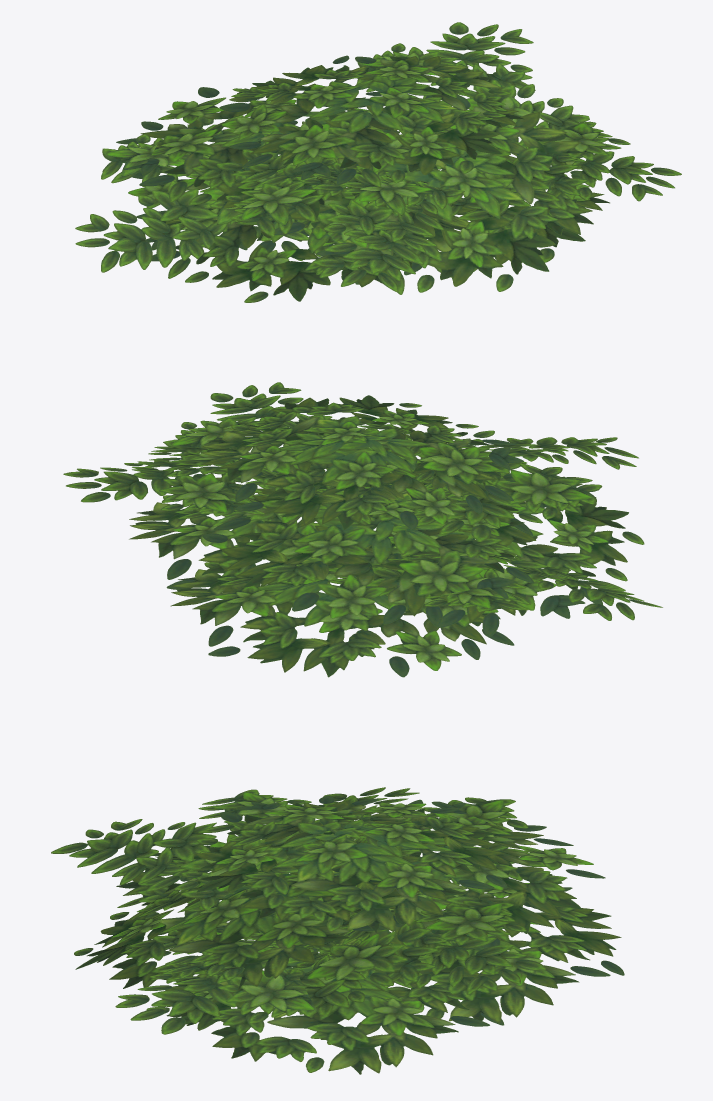
Rendered from SC_SLtree02.FBX.
The picture shows the model from 3 angles, top to bottom: view 1: azimuth 30°, elevation 25°; view 2: azimuth 150°, elevation 25°; view 3: azimuth 270°, elevation 25°; orthographic projection. The views are drawn at different scales.
Parts seen in each view (by area): view 1: SC_SLtree02; view 2: SC_SLtree02; view 3: SC_SLtree02.
Part boxes in pixels (x1=…): SC_SLtree02: x1=75, y1=22, x2=681, y2=302; SC_SLtree02: x1=63, y1=382, x2=662, y2=677; SC_SLtree02: x1=51, y1=787, x2=624, y2=1074.
Bounding box in the file's own units: 2.13 × 0.4303 × 1.93.
